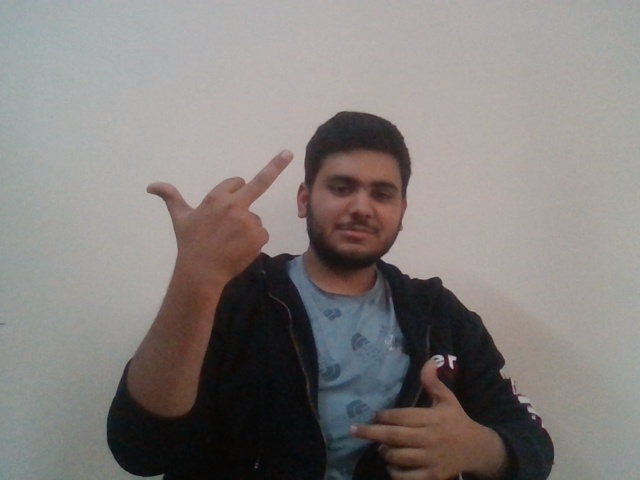Hello: (144, 148, 292, 263)
